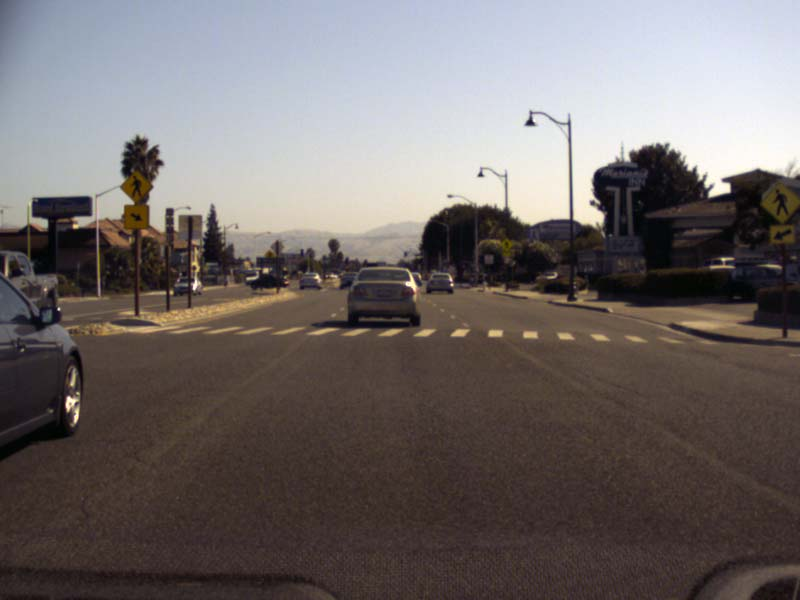Green: (345, 259, 348, 269)
